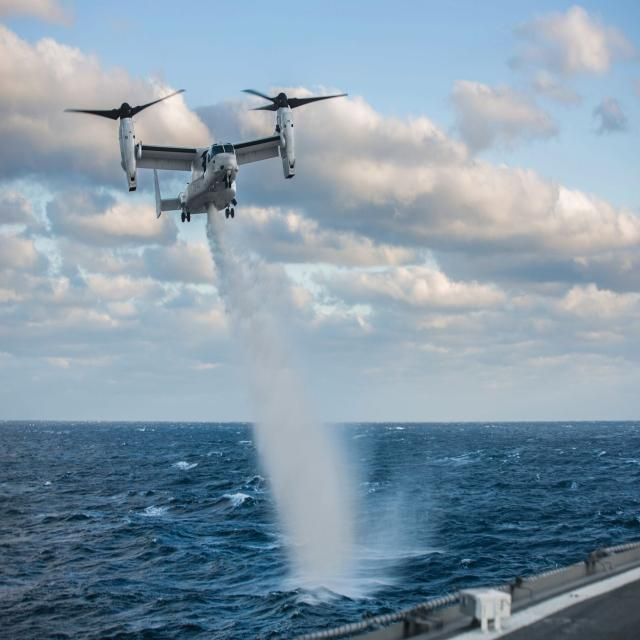MIL_Plane: (0, 88, 210, 222)
